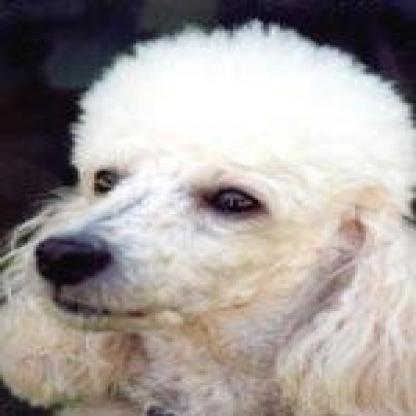miniature_poodle: (0, 14, 408, 412)
